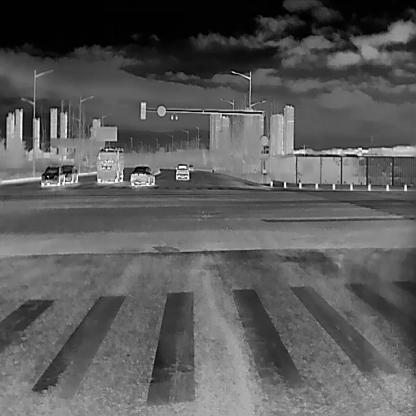car: (129, 164, 155, 186), (40, 163, 64, 186), (60, 164, 78, 184), (174, 162, 189, 180), (188, 162, 194, 171)
truck: (96, 145, 124, 183)
